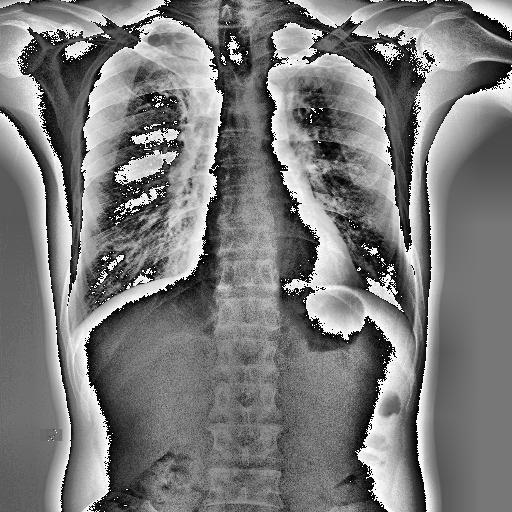13- Pulmonary fibrosis: (144, 17, 214, 105), (274, 51, 372, 83), (270, 47, 365, 80), (122, 26, 194, 66)
7- Lung Opacity: (144, 17, 214, 105), (134, 22, 195, 94)
